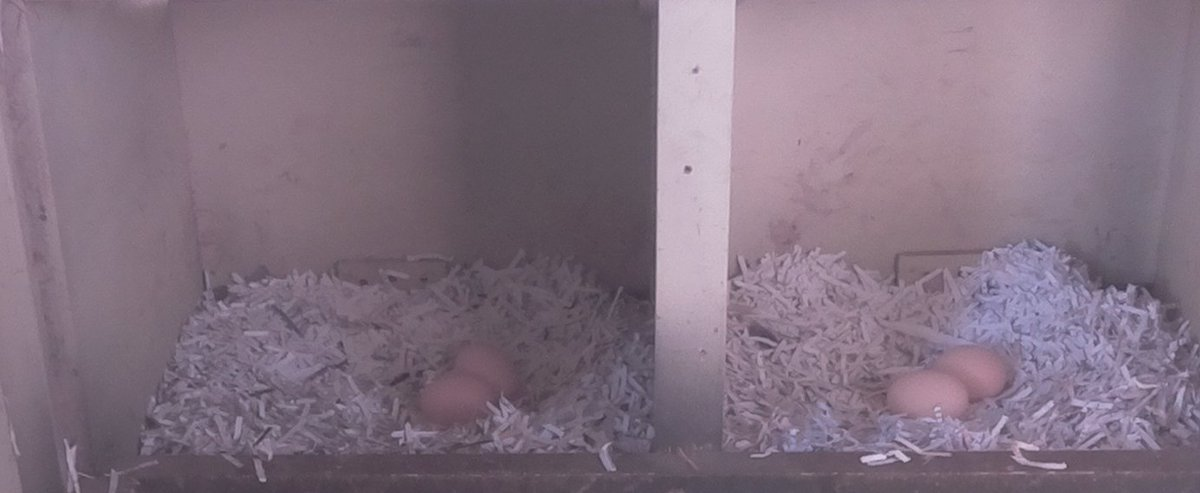egg: (451, 338, 528, 407), (882, 369, 971, 424), (416, 374, 504, 428), (933, 343, 1012, 402)
